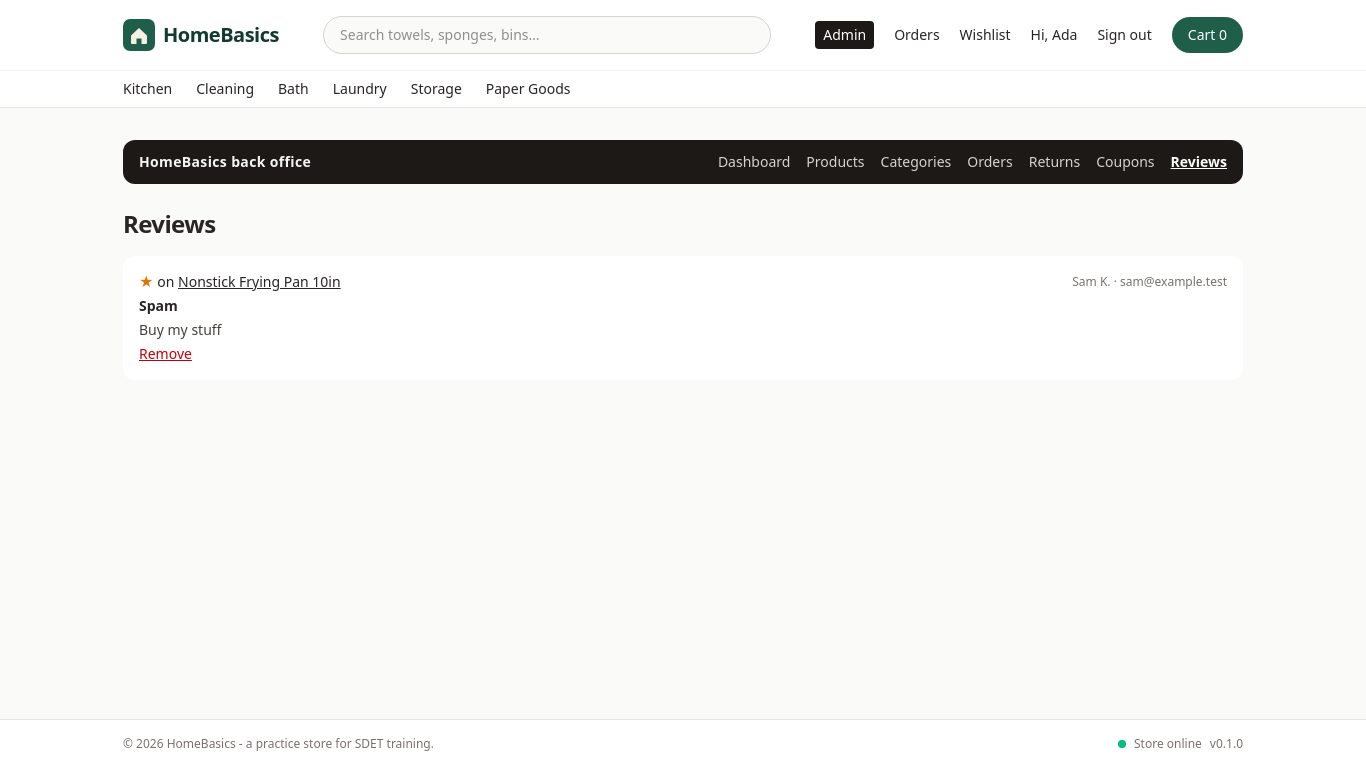
admin reviews (ADM-06) › removes a review after confirming
Expected: the list item with test id "admin-review" shows "sam@example.test", x1=1120 y1=273 x2=1227 y2=290
Step 1. Click the button with test id "admin-review-delete" → (165, 354), box x1=139 y1=344 x2=192 y2=364
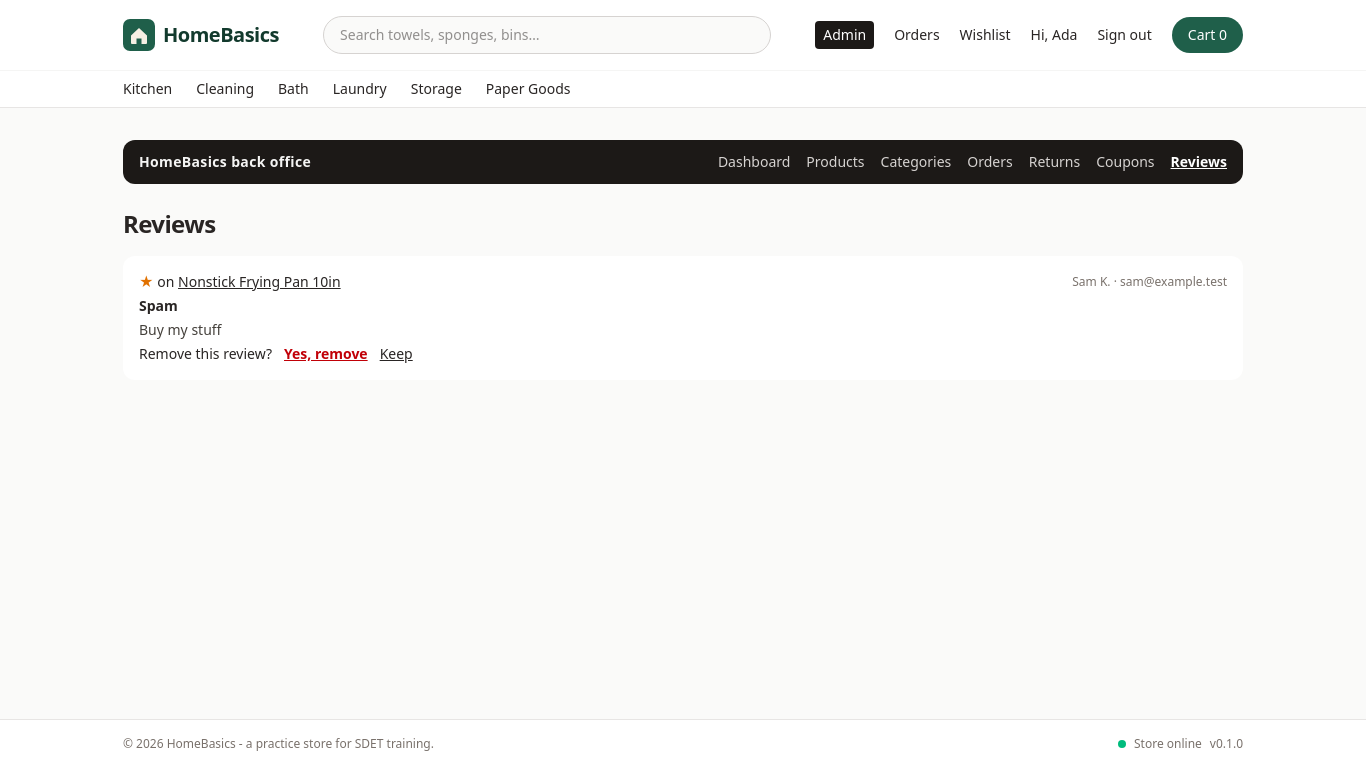
Step 2. Click the button with test id "admin-review-confirm" → (326, 354), box x1=284 y1=344 x2=368 y2=364
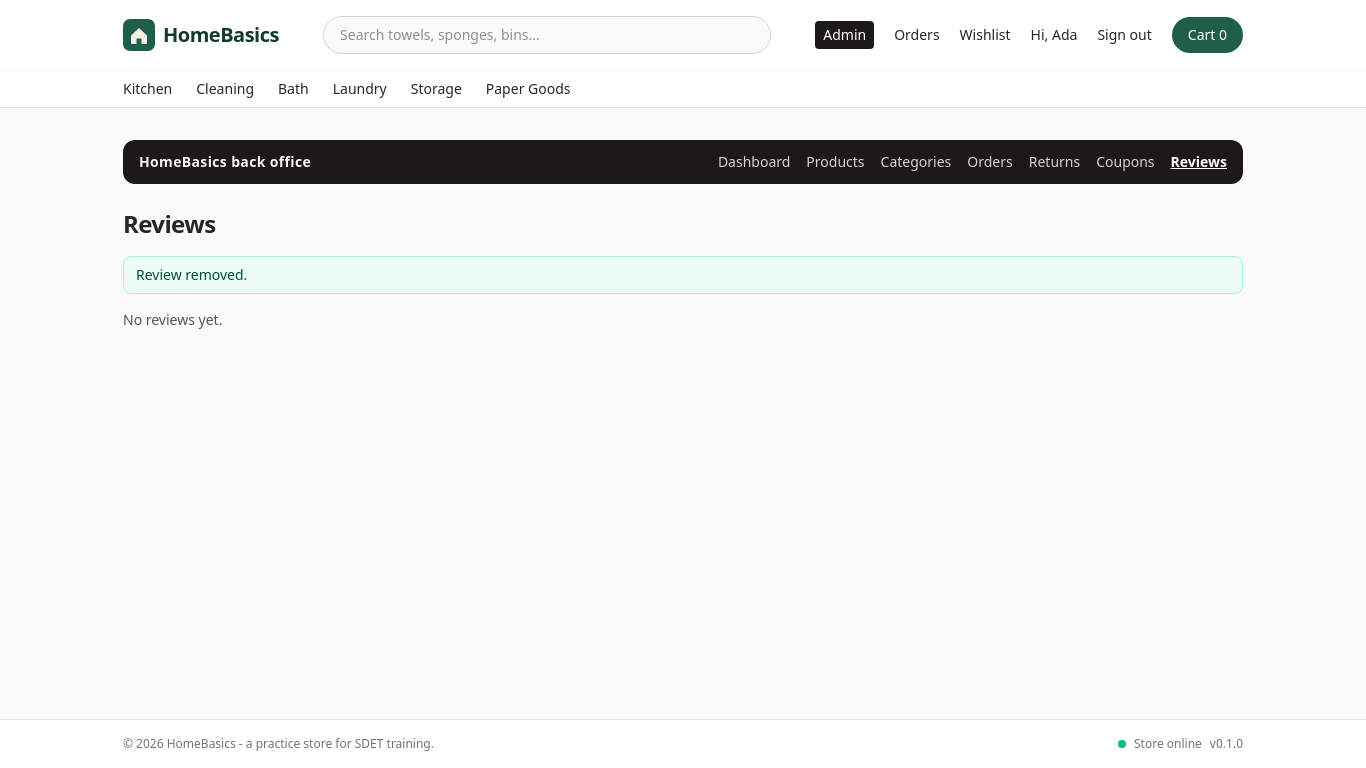
Expected: the message with test id "admin-notice" reads "Review removed.", x1=136 y1=265 x2=247 y2=284
